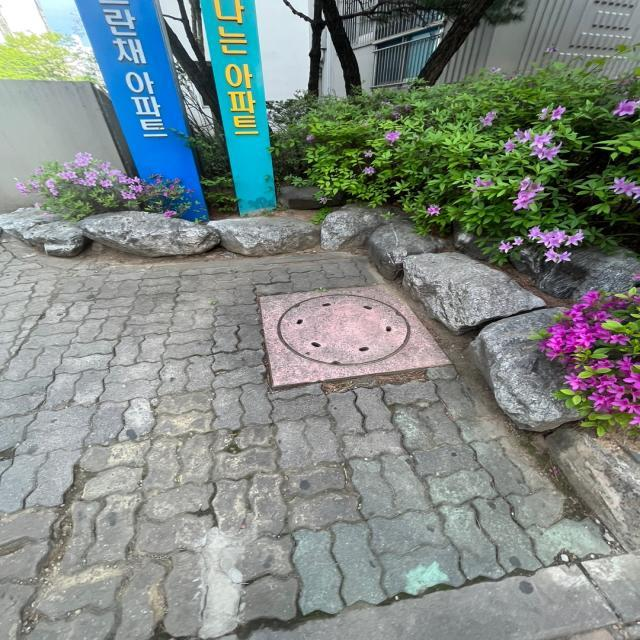Sewer Cover: (248, 270, 464, 400)
